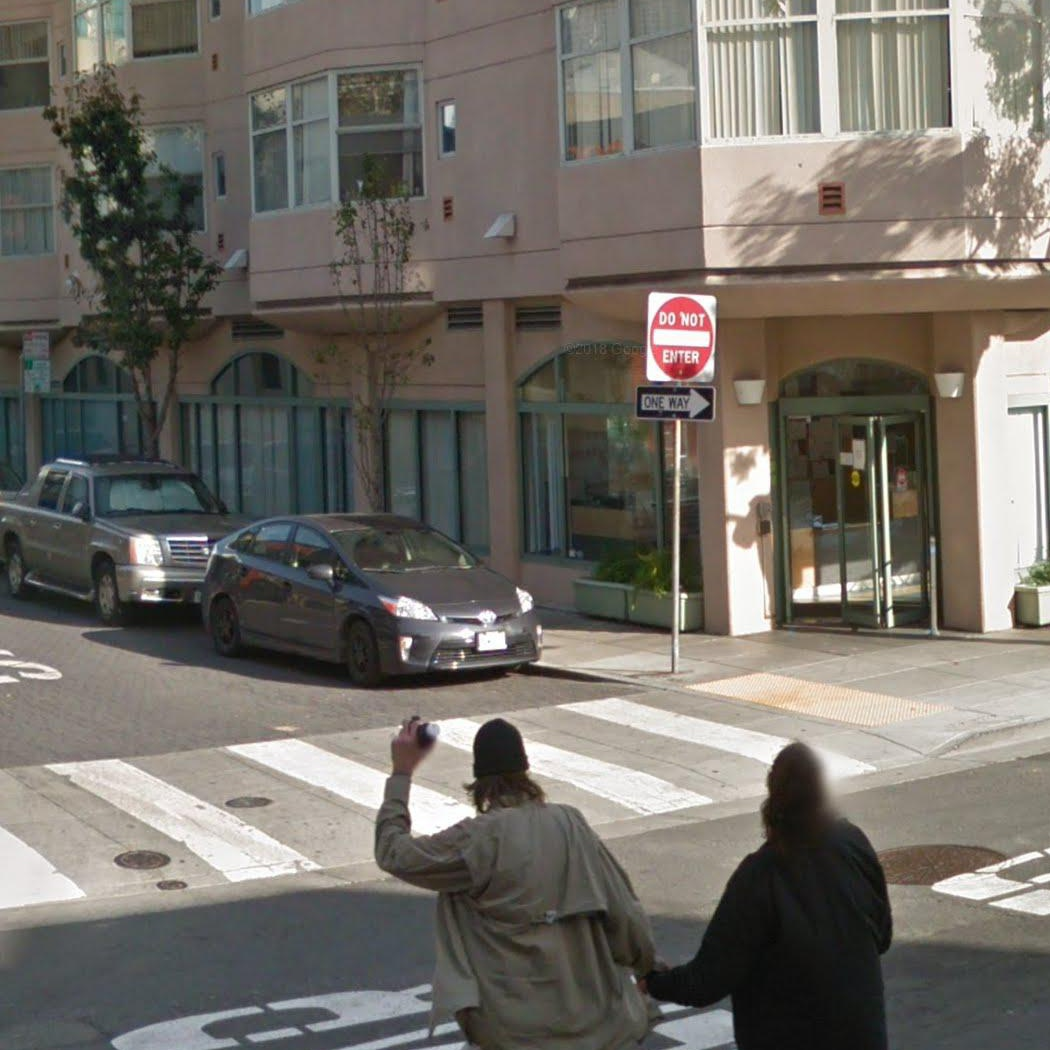1 Hour Parking: (22, 361, 52, 394)
No Parking: (22, 329, 50, 361)
